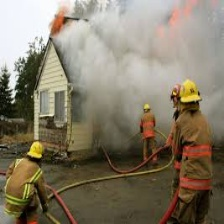smoke: (79, 13, 220, 103)
